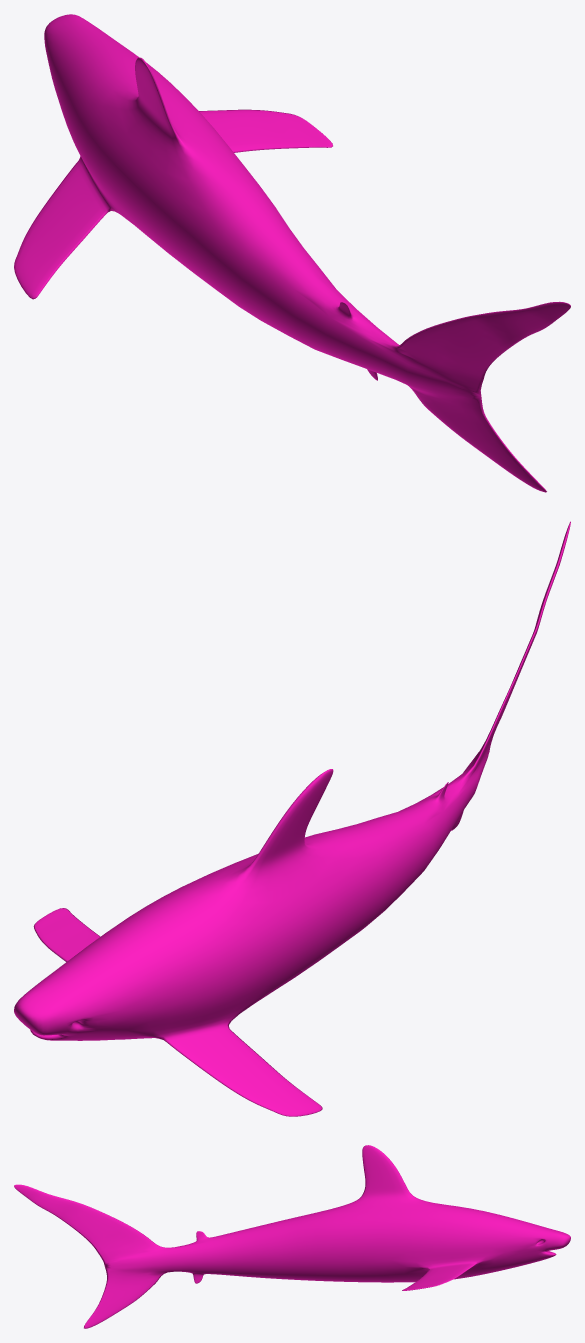
Rendered from dolphin1_5.dae.
The picture shows the model from 3 angles, top to bottom: view 1: azimuth 30°, elevation 25°; view 2: azimuth 150°, elevation 25°; view 3: azimuth 270°, elevation 25°; orthographic projection. The views are drawn at different scales.
Visible parts, largest first — view 1: dolphin1_019; view 2: dolphin1_019; view 3: dolphin1_019.
Part boxes in pixels (left/top/right/bottom): dolphin1_019: left=14, top=14, right=570, bottom=492; dolphin1_019: left=14, top=521, right=570, bottom=1116; dolphin1_019: left=14, top=1145, right=570, bottom=1328.
Size of the model in its own units: 0.045 by 0.146 by 0.0426.
